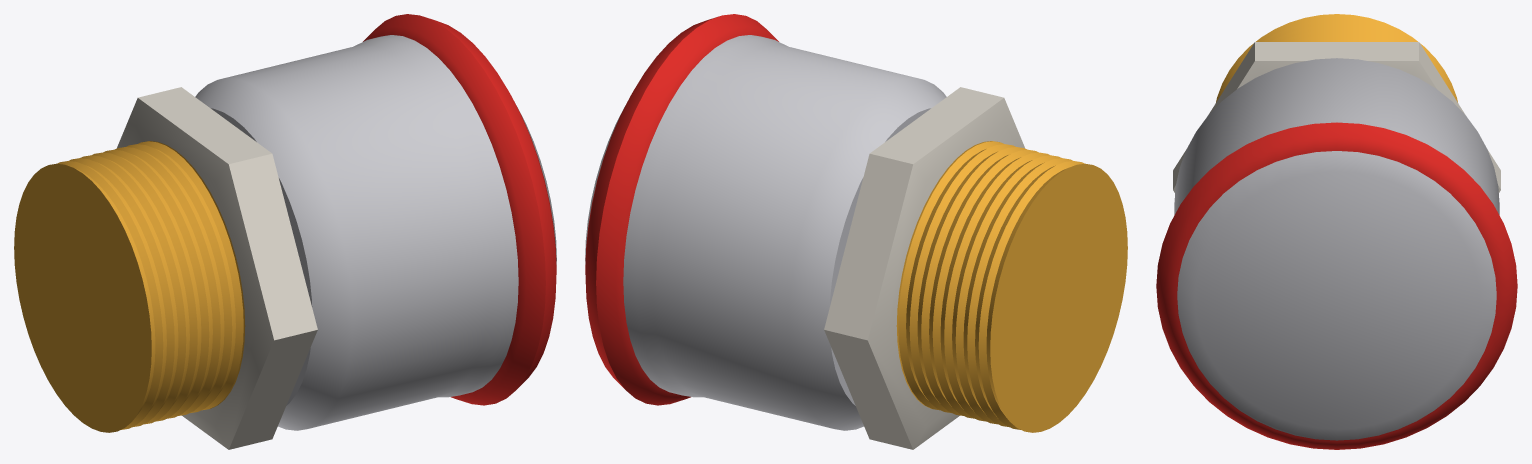
The model's file is fitting_adp_35x1_M_r.glb.
The picture shows the model from 3 angles, left to right: view 1: azimuth 30°, elevation 25°; view 2: azimuth 150°, elevation 25°; view 3: azimuth 270°, elevation 25°; orthographic projection. The views are drawn at different scales.
Visible parts, largest first — view 1: раструб, резьба НР, шестигранник переходника, кольцо пресс; view 2: раструб, резьба НР, шестигранник переходника, кольцо пресс; view 3: раструб, кольцо пресс, шестигранник переходника, резьба НР.
Boxes of the visible parts, bbox=[...] form: раструб: bbox=[195, 35, 556, 430]; резьба НР: bbox=[14, 141, 245, 432]; шестигранник переходника: bbox=[116, 87, 317, 449]; кольцо пресс: bbox=[363, 14, 556, 405]; раструб: bbox=[585, 35, 946, 430]; резьба НР: bbox=[896, 141, 1127, 432]; шестигранник переходника: bbox=[824, 87, 1025, 449]; кольцо пресс: bbox=[585, 14, 778, 405]; раструб: bbox=[1174, 58, 1499, 440]; кольцо пресс: bbox=[1156, 122, 1517, 449]; шестигранник переходника: bbox=[1173, 42, 1500, 192]; резьба НР: bbox=[1216, 14, 1457, 102].
Size of the model in its own units: 0.055 by 0.0483 by 0.0483.
